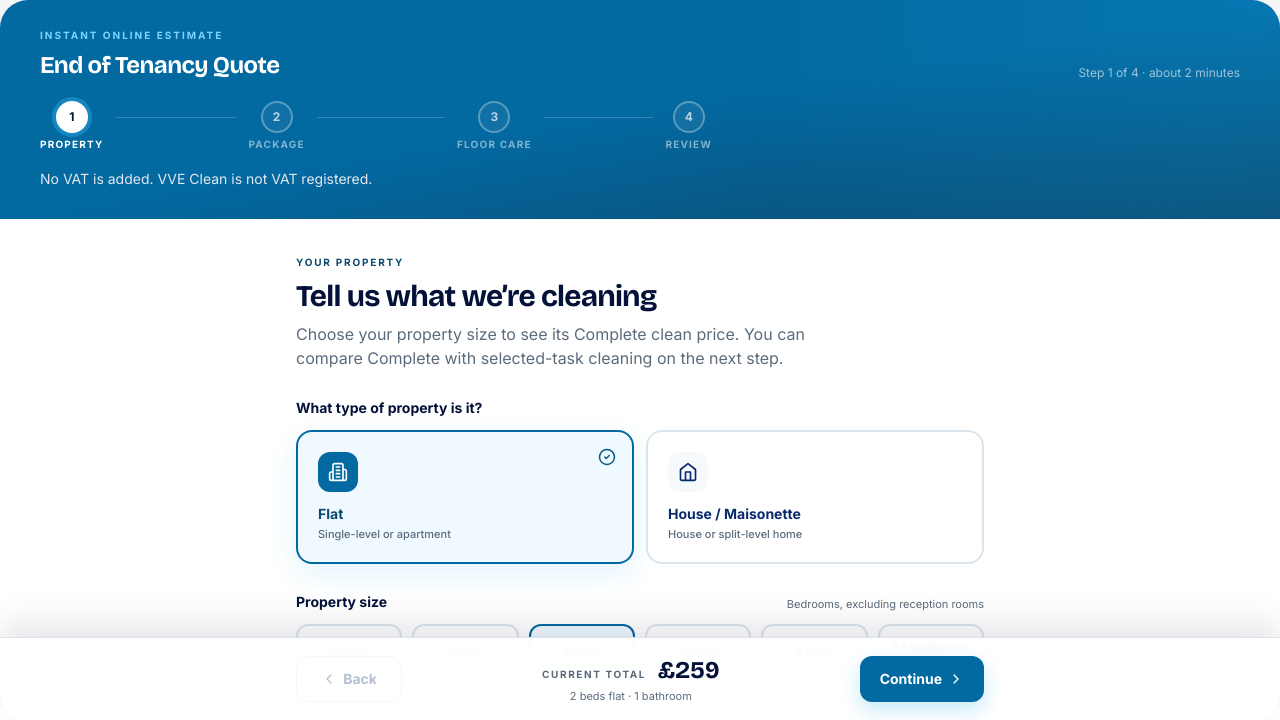
Test: EotQuoteWizard — Step 1: Property (no pricing breakdown shown) › house/maisonette uses its own explicit price, not a flat + blanket adjustment
Click the button "House / Maisonette" at (688, 472), box [646,430,984,564]
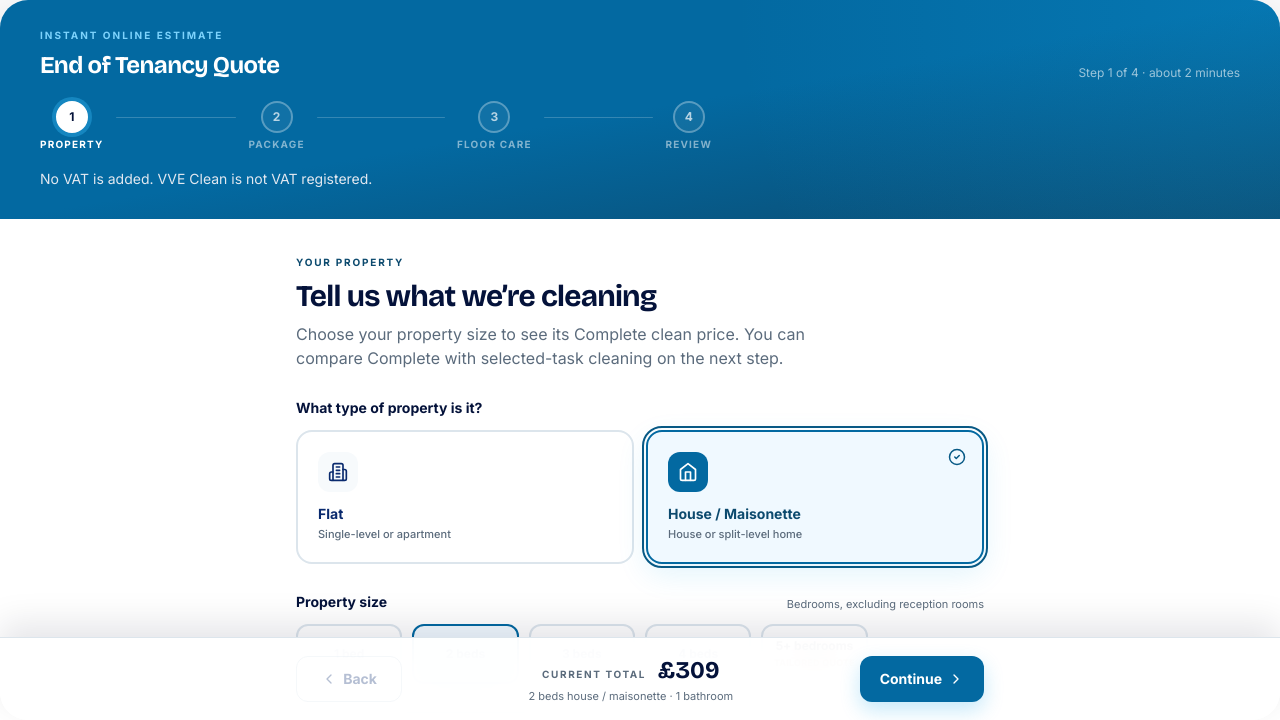
Check: the text with test id "footer-total" reads "£309", box [658,656,720,684]
